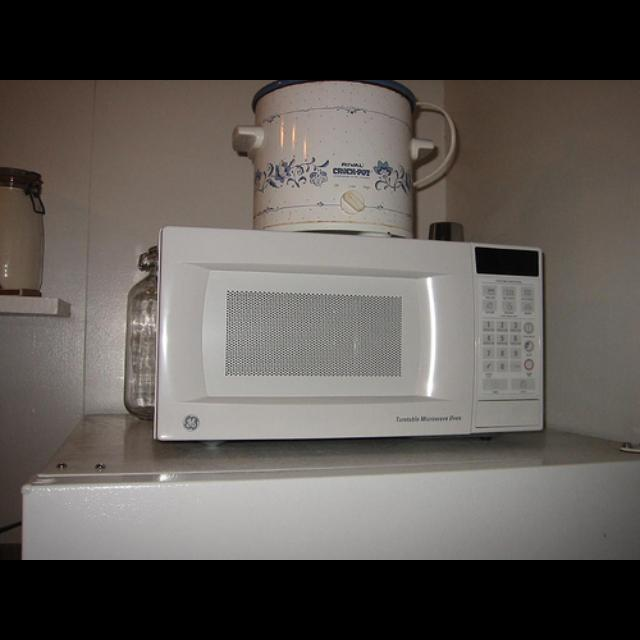Microwave: (151, 222, 547, 439)
Refrigerator: (21, 406, 640, 554)
